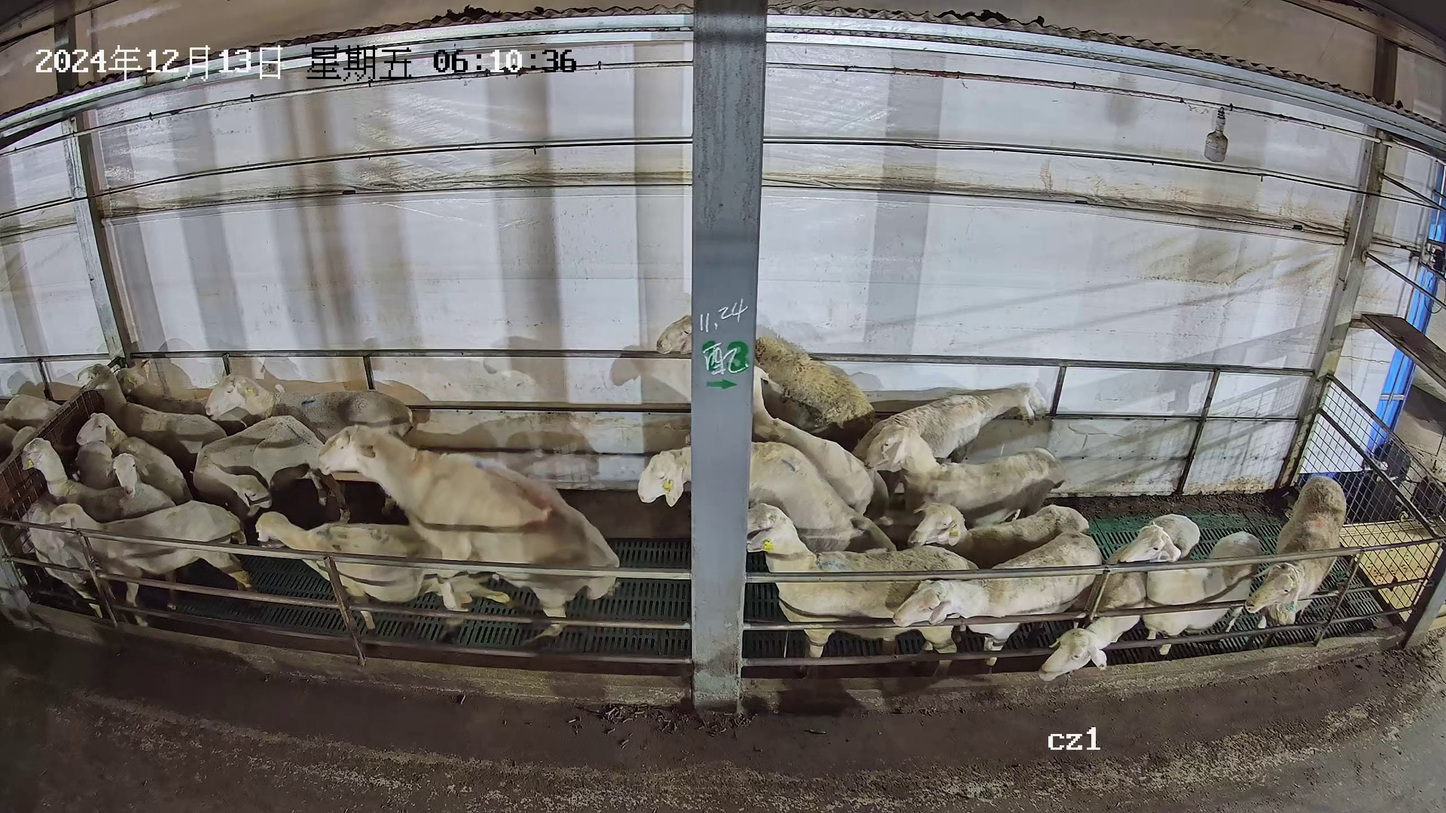Smounting: (247, 419, 619, 648)
mounted: (252, 504, 487, 645)
